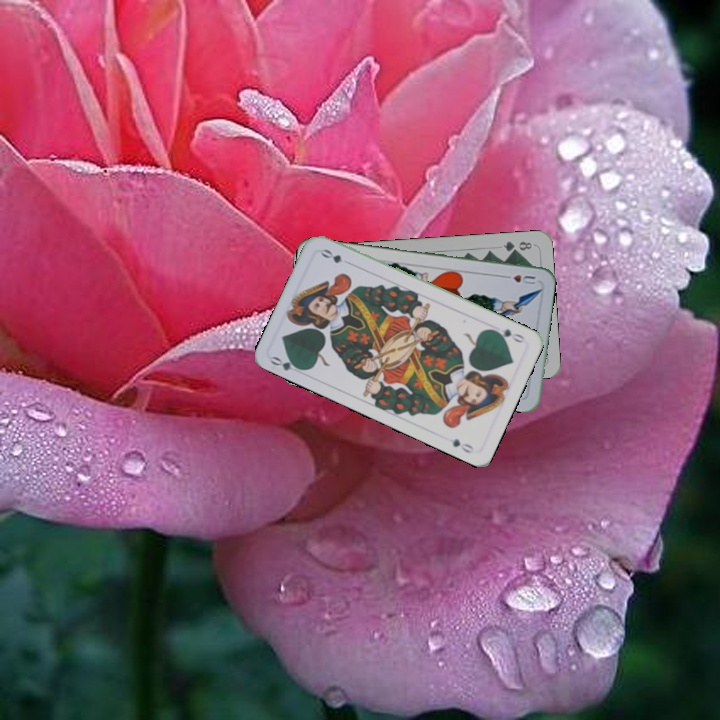G8: (499, 237, 534, 255)
GO: (266, 352, 307, 377), (488, 325, 527, 345)
HU: (499, 270, 538, 287)
